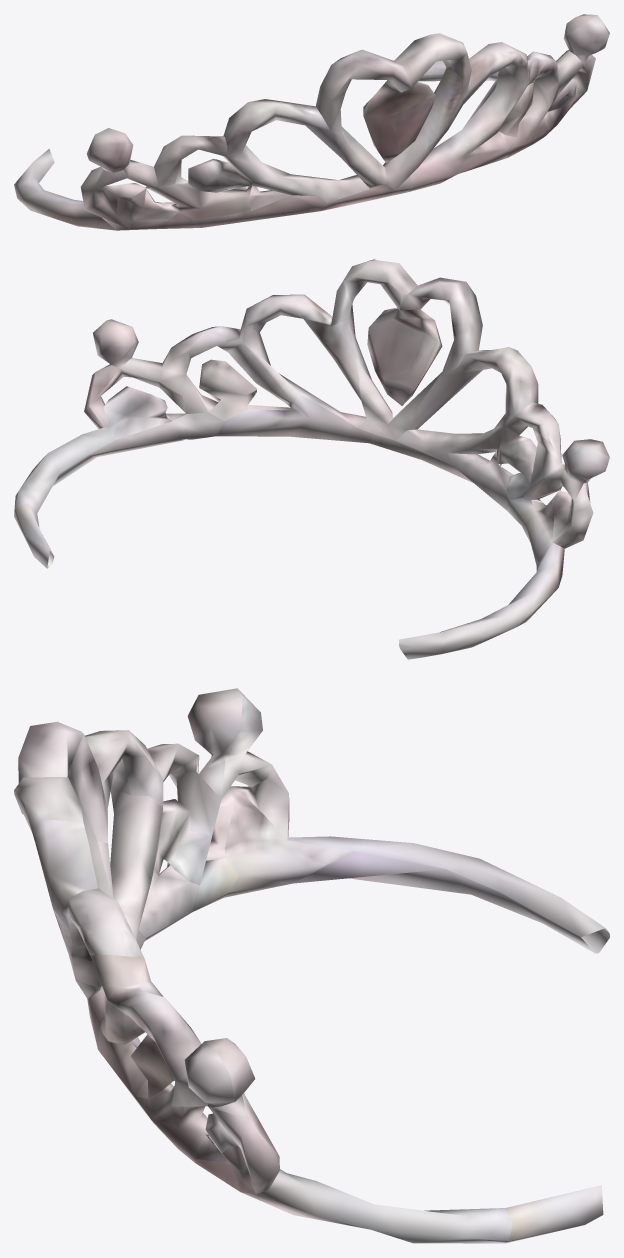
3 views of the same model, one above another, from view 1: azimuth 30°, elevation 25°; view 2: azimuth 150°, elevation 25°; view 3: azimuth 270°, elevation 25° (orthographic). The views are drawn at different scales.
Visible parts, largest first — view 1: Silver-Tiara-16; view 2: Silver-Tiara-16; view 3: Silver-Tiara-16.
Boxes of the visible parts, x1,y1,x2,y2 form: Silver-Tiara-16: [14, 14, 609, 230]; Silver-Tiara-16: [14, 259, 609, 659]; Silver-Tiara-16: [14, 688, 609, 1243].
Bounding box in the file's own units: 0.2923 × 0.1164 × 0.1899.
Materials: 1 (1 with a texture image).
